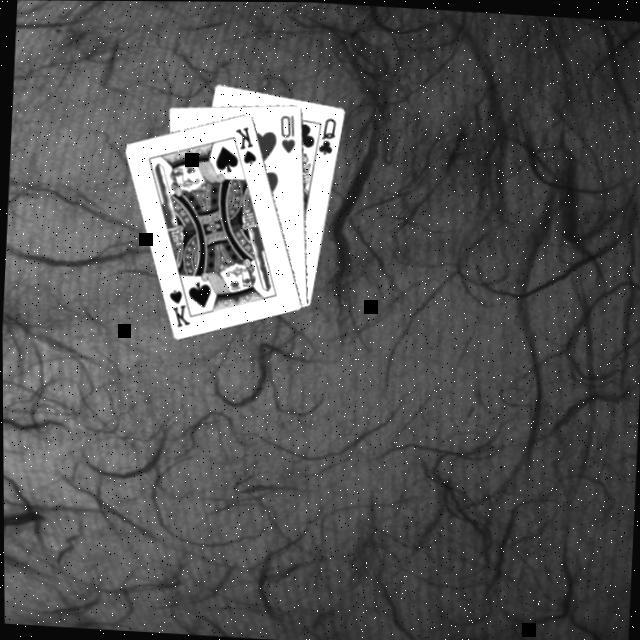10H: (274, 112, 298, 156)
KS: (162, 280, 195, 330), (228, 124, 258, 168)
QC: (314, 115, 338, 158)
